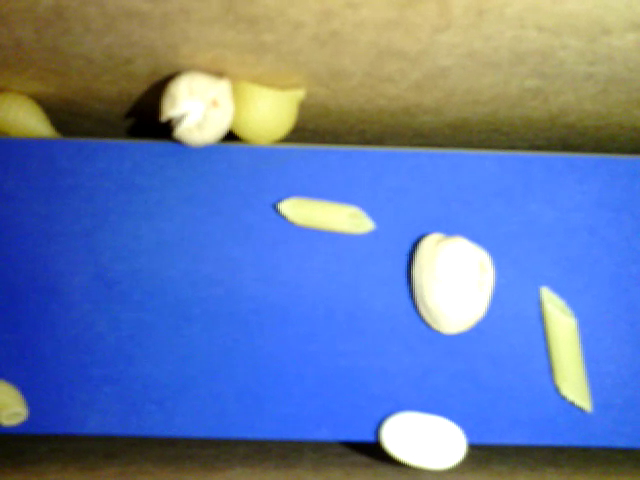elbow: (1, 374, 33, 428)
penne: (538, 283, 595, 413), (272, 194, 377, 236)
shell: (228, 78, 309, 143), (1, 90, 65, 139)
